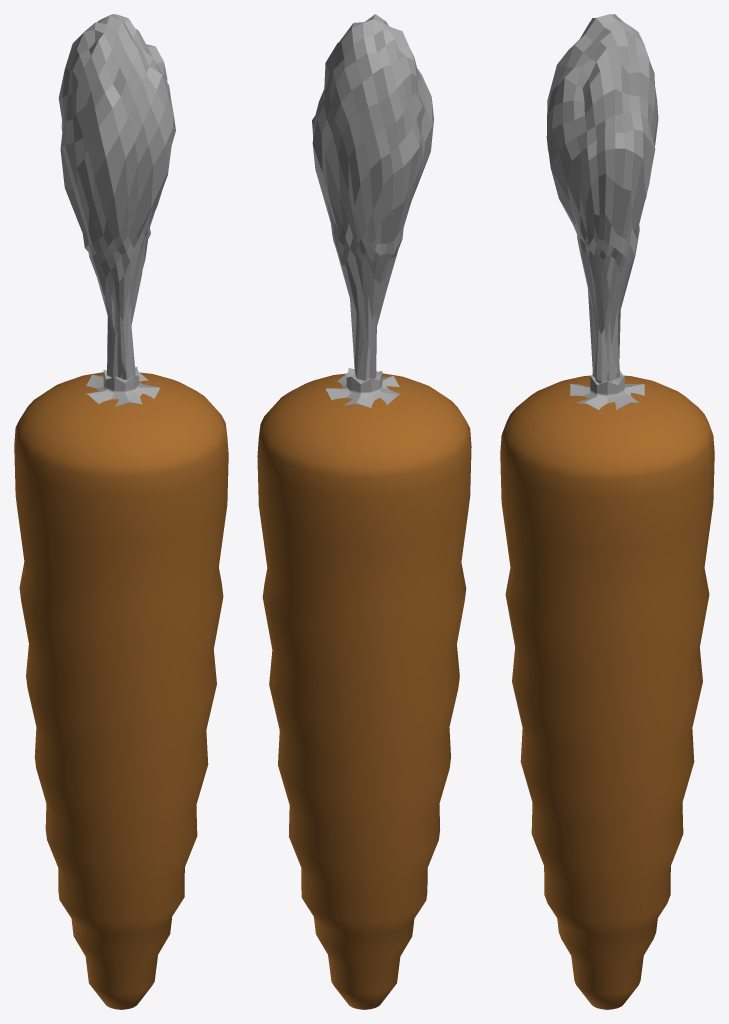
The model's file is Zanahoria_uvs.fbx.
3 renders of one model, left to right at view 1: azimuth 30°, elevation 25°; view 2: azimuth 150°, elevation 25°; view 3: azimuth 270°, elevation 25°, orthographic.
Parts seen in each view (by area): view 1: Zanahoria; view 2: Zanahoria; view 3: Zanahoria.
Boxes of the visible parts, x1=… form: Zanahoria: x1=14, y1=14, x2=228, y2=1009; Zanahoria: x1=257, y1=14, x2=471, y2=1009; Zanahoria: x1=500, y1=14, x2=714, y2=1009.
Bounding box in the file's own units: 6.98 × 35.56 × 6.98.
